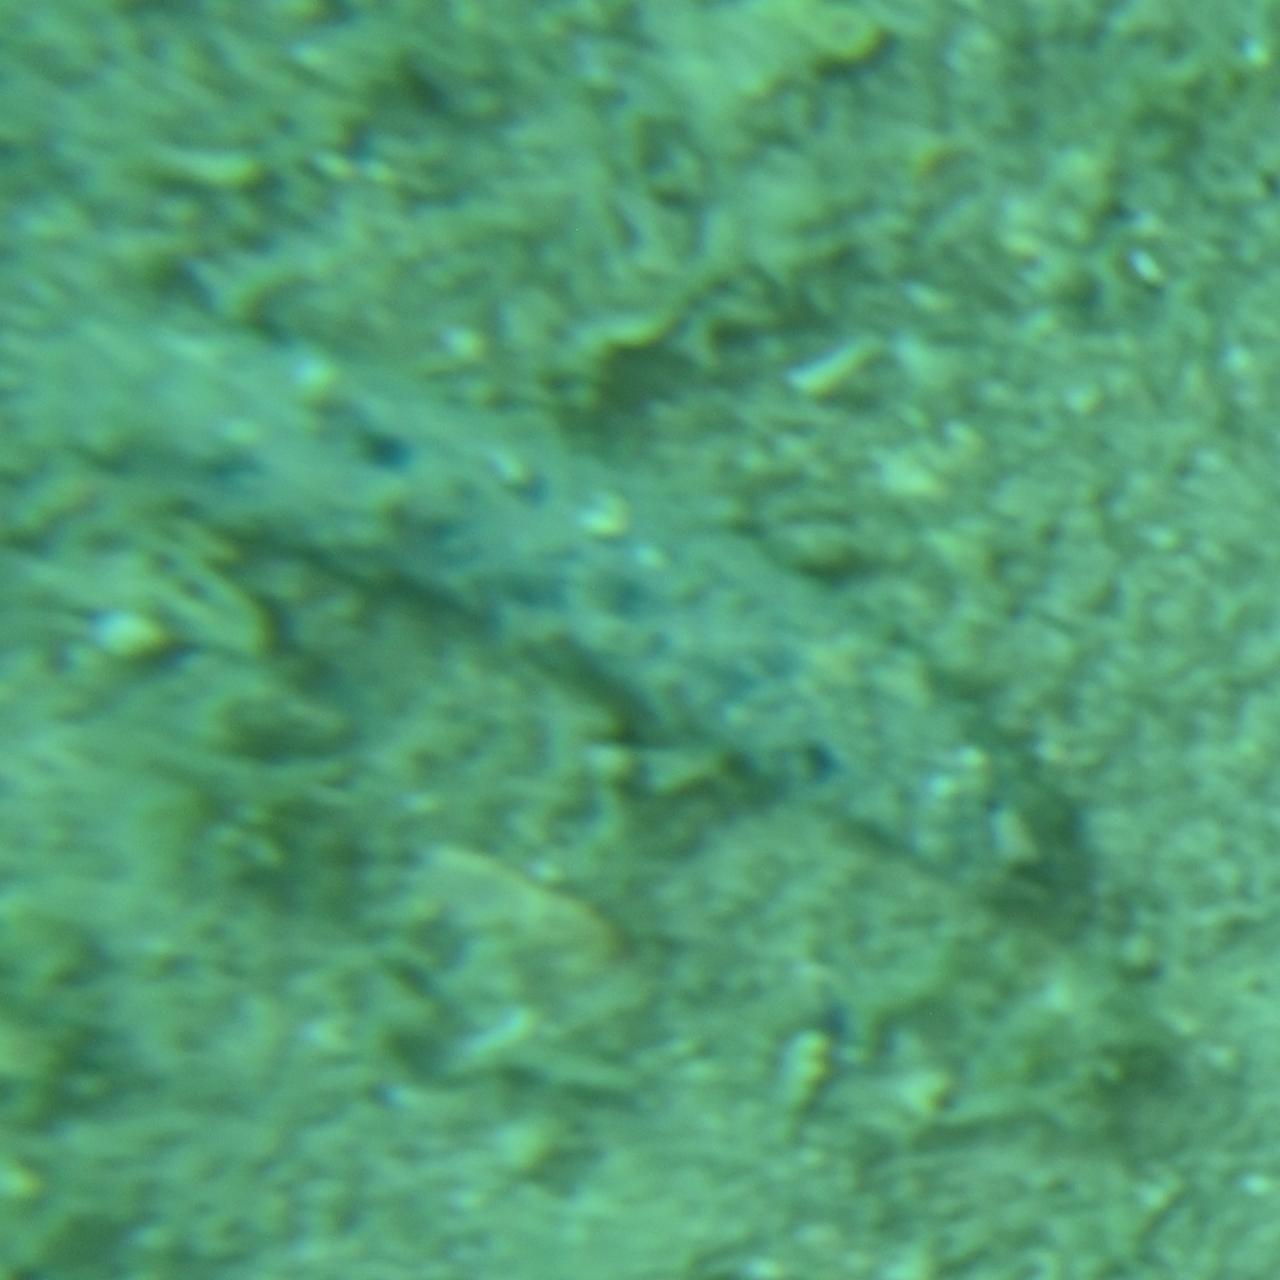Holothuria tubulosa: (95, 329, 1105, 951)
